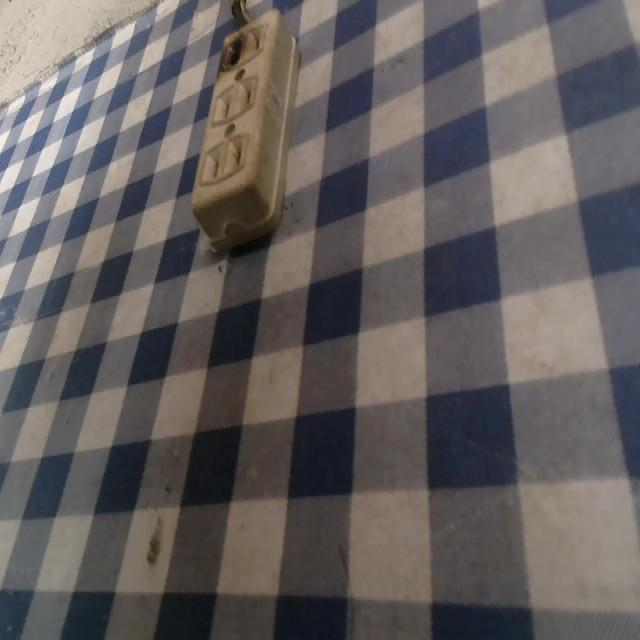-: (210, 25, 248, 71)
